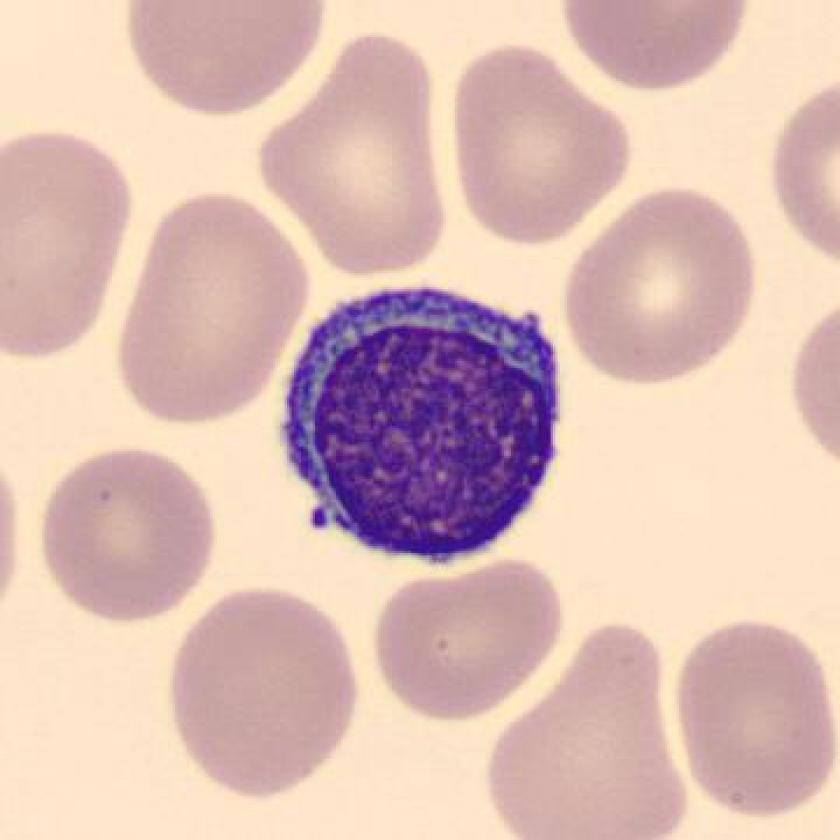lymphocyte: (265, 272, 577, 584)
